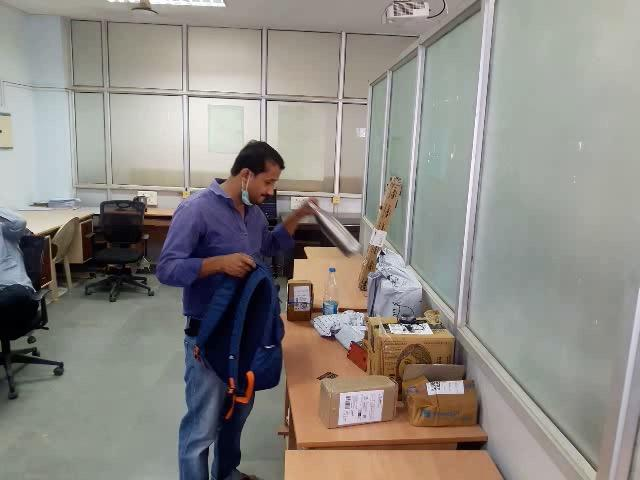shoplifting: (136, 196, 373, 399)
